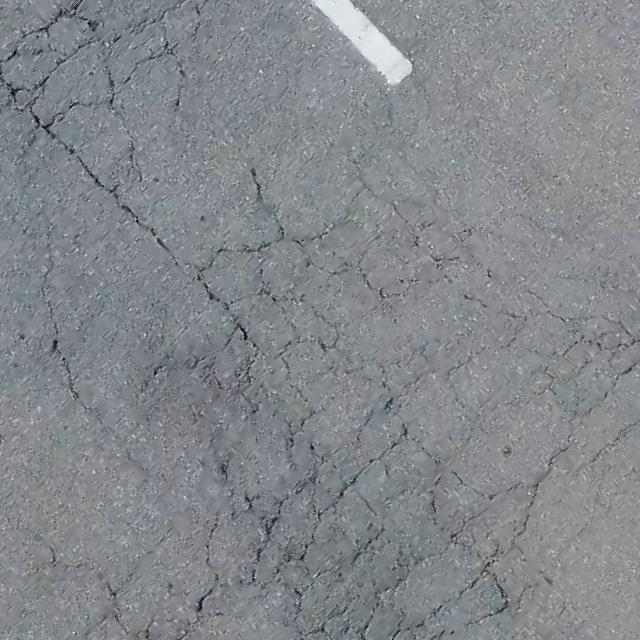GRIETA: (41, 255, 87, 409)
PIEL DE COCODRILO: (0, 0, 639, 639)
